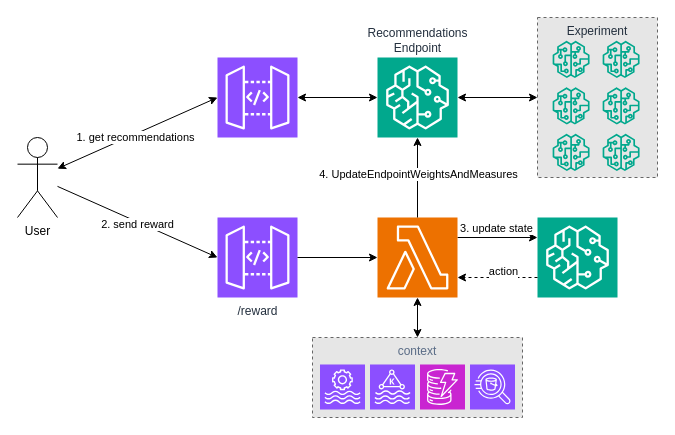
The diagram is 675 pixels wide and 435 high, and some of its shapes have lost their labels. The centre of each missing label's shape, as x and y in pixels:
"/recommendations" goes at pixel 257 97.
"Bandit Endpoint" goes at pixel 577 257.
